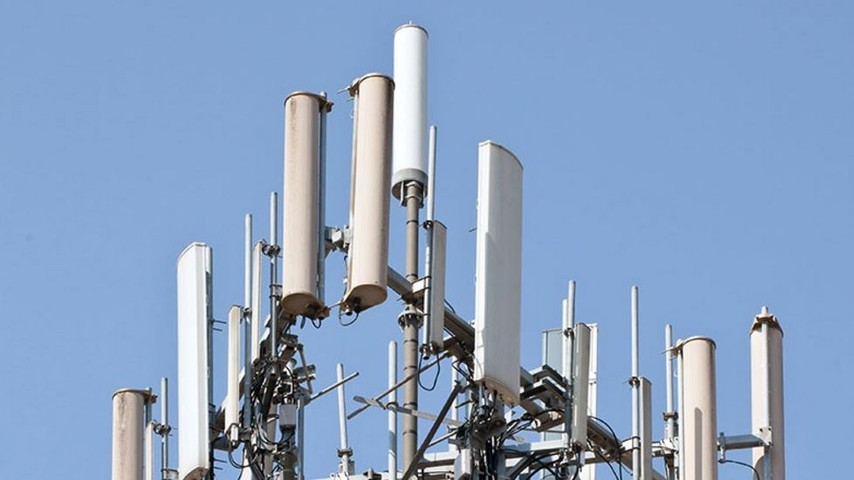a: (468, 134, 526, 408), (344, 69, 397, 321), (278, 90, 330, 319), (168, 248, 218, 480), (388, 17, 439, 211), (746, 309, 792, 480), (671, 326, 719, 480), (106, 386, 155, 480), (566, 317, 596, 457), (420, 215, 448, 361), (221, 301, 245, 448), (625, 371, 655, 480)
